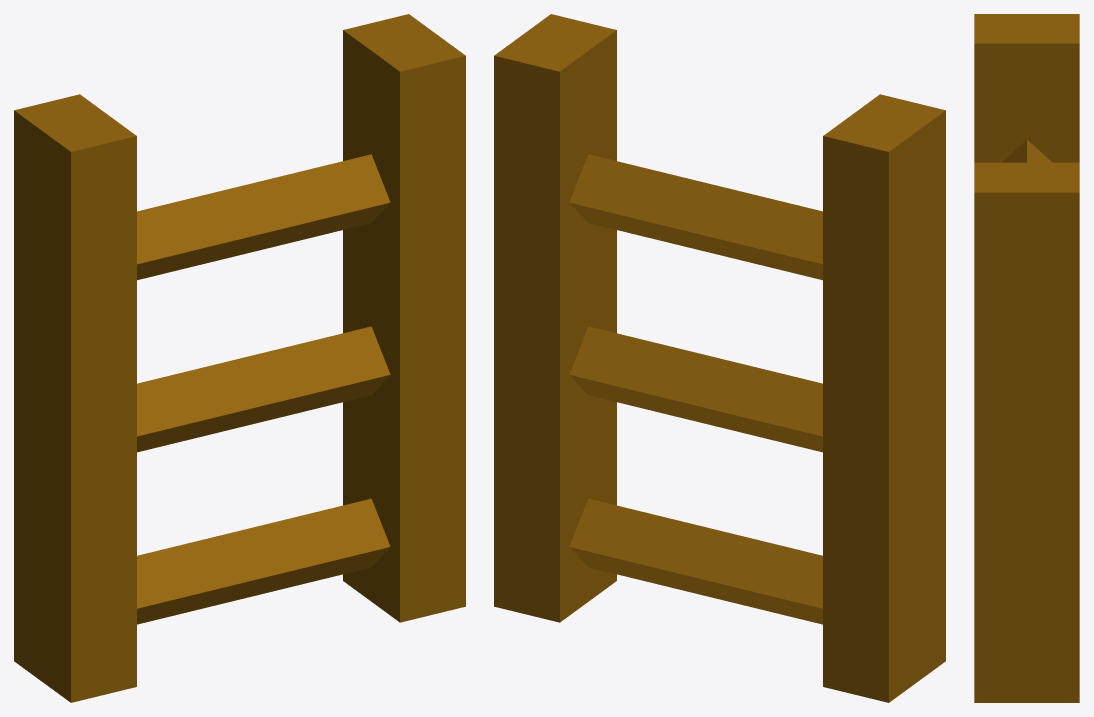
The model's file is obj_ladder_58_0.obj.
3 renders of one model, left to right at view 1: azimuth 30°, elevation 25°; view 2: azimuth 150°, elevation 25°; view 3: azimuth 270°, elevation 25°, orthographic. The views are drawn at different scales.
Bounding box in the file's own units: 0.75 × 1 × 0.1875.
